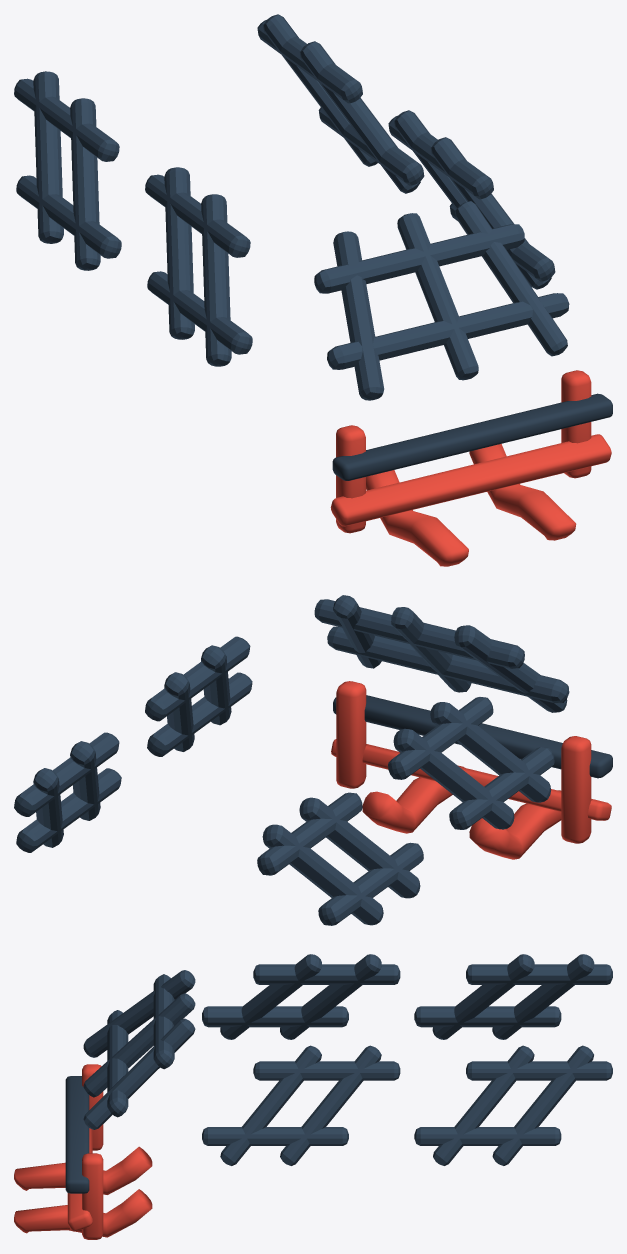
The model's file is upgrande.fbx.
3 renders of one model, top to bottom at view 1: azimuth 30°, elevation 25°; view 2: azimuth 150°, elevation 25°; view 3: azimuth 270°, elevation 25°, orthographic. The views are drawn at different scales.
Parts seen in each view (by area): view 1: Cube.006; view 2: Cube.006; view 3: Cube.006.
Part boxes in pixels (<box>): Cube.006: <box>14,14,612,566</box>; Cube.006: <box>14,595,612,925</box>; Cube.006: <box>14,954,612,1239</box>.
Size of the model in its own units: 2.33 by 1.77 by 4.36.
1 material, 1 textured.
